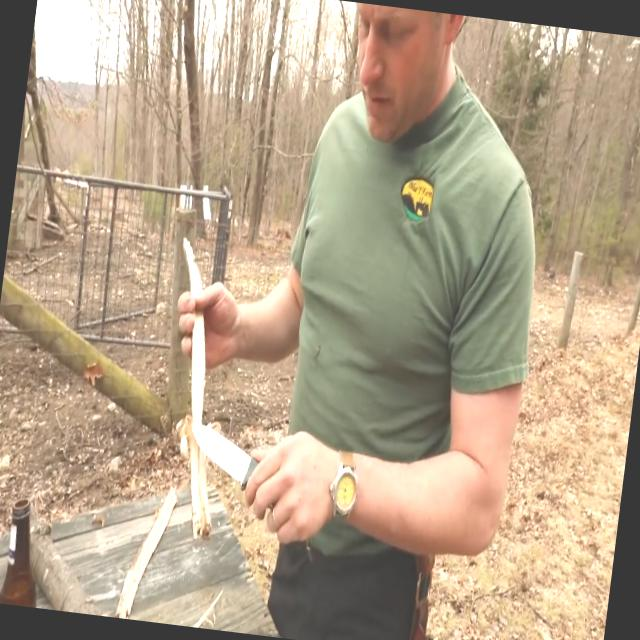knife: (168, 404, 322, 552)
